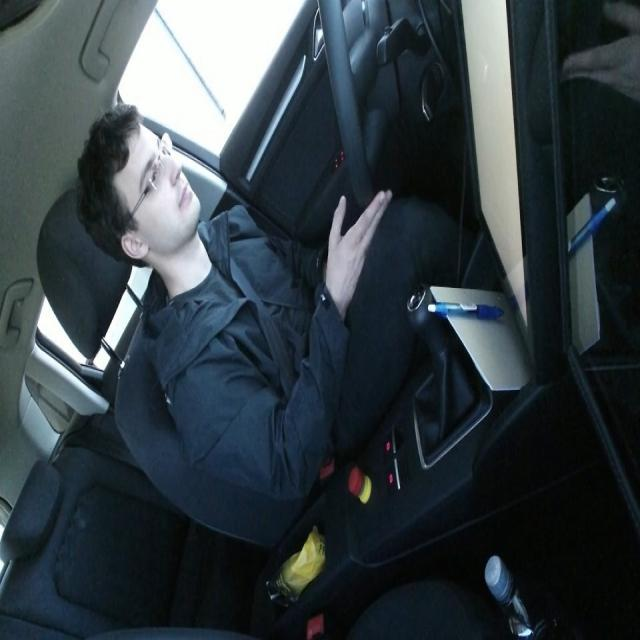pen: (427, 299, 503, 320)
